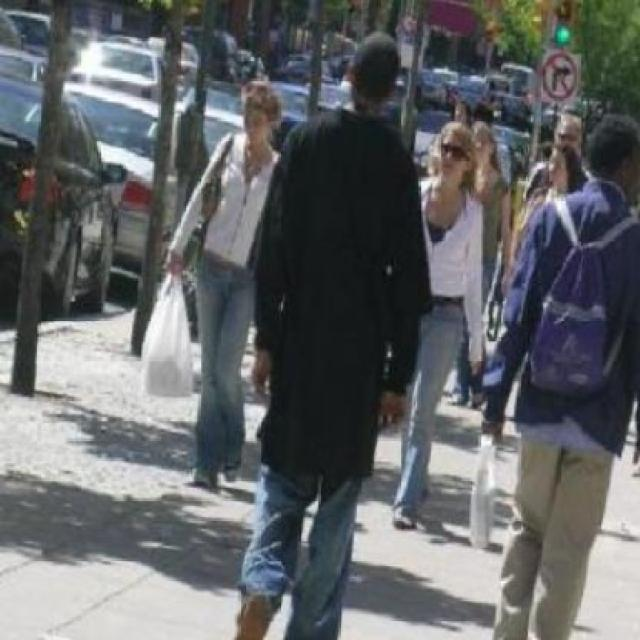Person: (226, 21, 434, 638), (474, 112, 638, 638), (159, 63, 270, 488), (404, 116, 481, 547)
